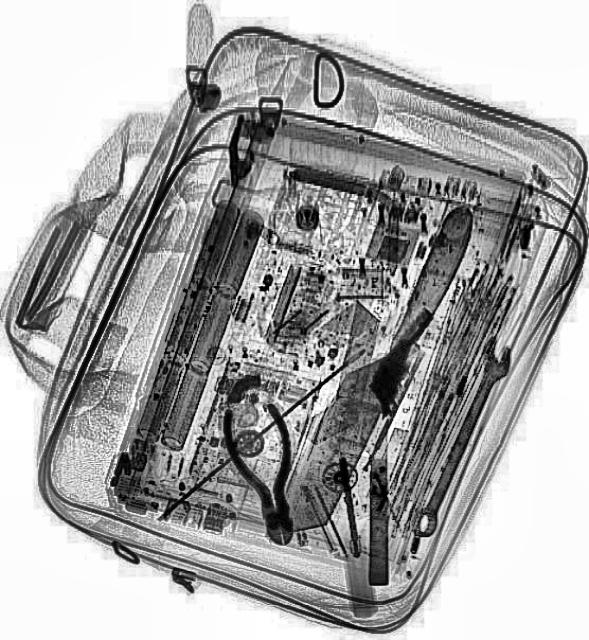Knife: (261, 178, 480, 544), (327, 296, 397, 586)
Pliers: (218, 398, 313, 550)
Wrench: (401, 329, 521, 541)
